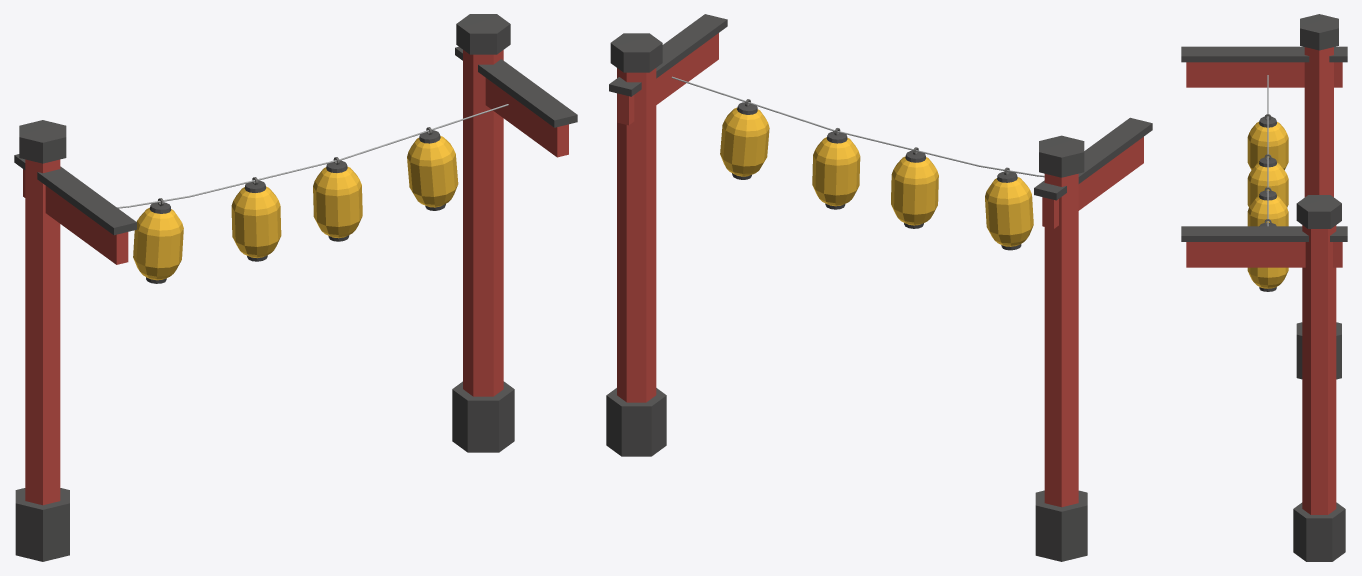
Rendered from diorama_3.fbx.
3 renders of one model, left to right at view 1: azimuth 30°, elevation 25°; view 2: azimuth 150°, elevation 25°; view 3: azimuth 270°, elevation 25°, orthographic. The views are drawn at different scales.
Parts seen in each view (by area): view 1: diorama_3; view 2: diorama_3; view 3: diorama_3.
Boxes of the visible parts, x1=… form: diorama_3: x1=14, y1=14, x2=577, y2=561; diorama_3: x1=606, y1=14, x2=1152, y2=561; diorama_3: x1=1181, y1=14, x2=1347, y2=561.
Size of the model in its own units: 456 by 370 by 160.
